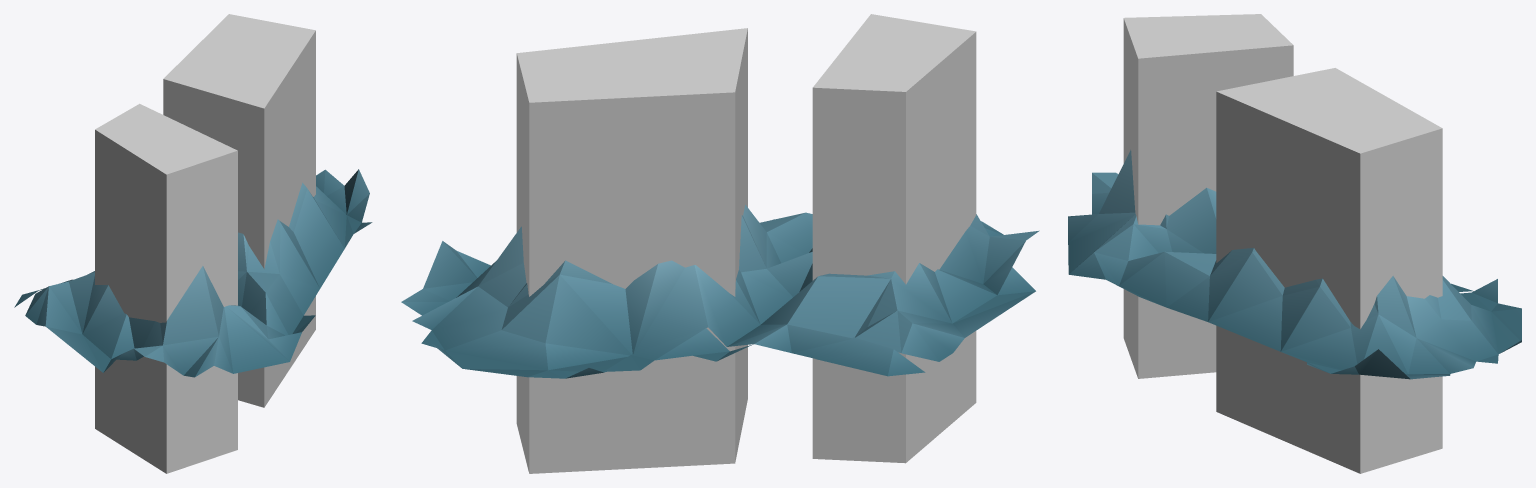
File: island_small_ice_Collection_8.fbx
3 views of the same model, side by side, from view 1: azimuth 30°, elevation 25°; view 2: azimuth 150°, elevation 25°; view 3: azimuth 270°, elevation 25° (orthographic). The views are drawn at different scales.
Visible parts, largest first — view 1: islandRock_8_col, islandRock_8; view 2: islandRock_8_col, islandRock_8; view 3: islandRock_8_col, islandRock_8.
Part boxes in pixels (box(x1,y1,x2,y2)): islandRock_8_col: box(95, 14, 315, 473); islandRock_8: box(14, 169, 372, 377); islandRock_8_col: box(516, 14, 976, 473); islandRock_8: box(401, 205, 1039, 378); islandRock_8_col: box(1123, 14, 1442, 473); islandRock_8: box(1068, 149, 1521, 379).
Bounding box in the file's own units: 5541 × 4307 × 5530.
